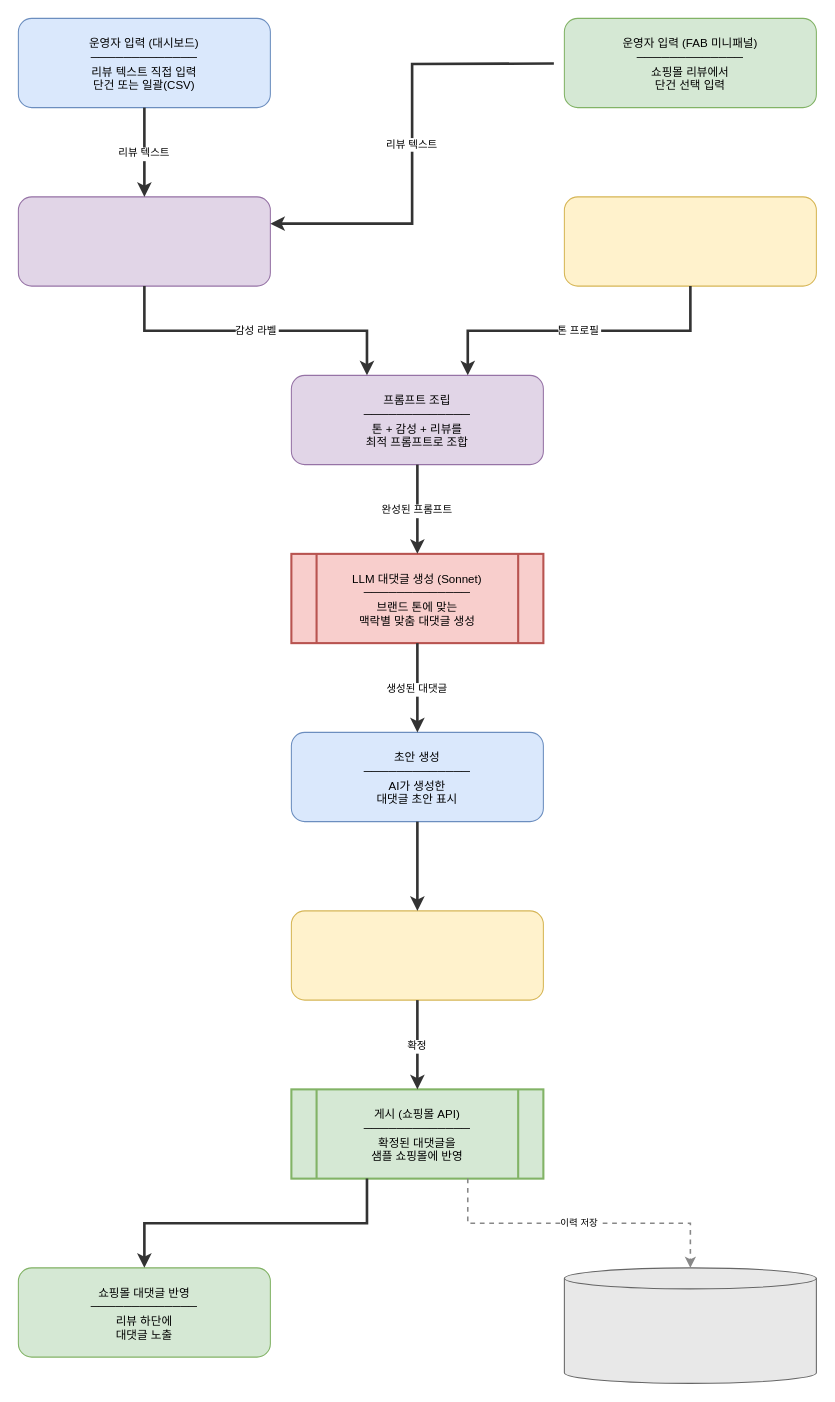
Image size: 835x1402. Some labels were removed from this diagram. The box of each missing label's shape, as (x1, y1, x2, y2) in pixels:
감성 분류 (Haiku) ───────────── 리뷰 감성 자동 판별 긍정/부정/문의/기타: (17, 196, 270, 286)
운영자 수정/확정 ───────────── 인라인 편집 후 최종 확정: (290, 910, 543, 1000)
톤 가이드 로드 ───────────── 운영자가 설정한 브랜드 톤 프로필 조회: (563, 196, 816, 286)
히스토리 저장 ───────────── 생성/수정 이력 타임스탬프 기록: (563, 1267, 816, 1383)
